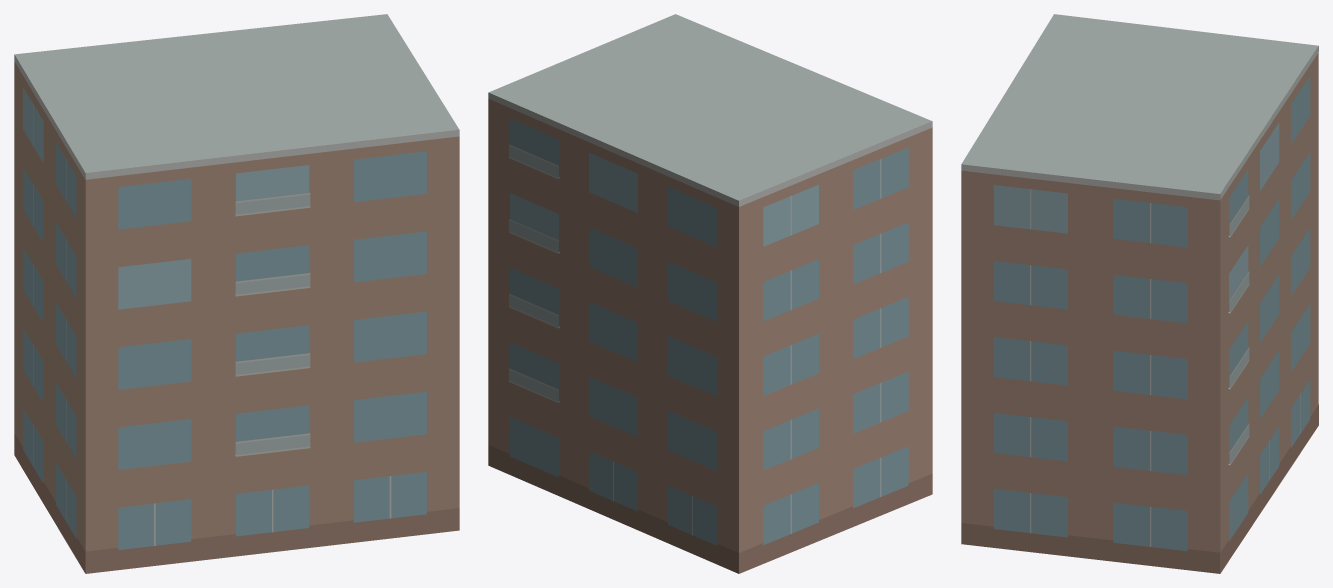
The model's file is survey-upis-32876216.glb.
3 views of the same model, side by side, from view 1: azimuth 30°, elevation 25°; view 2: azimuth 150°, elevation 25°; view 3: azimuth 270°, elevation 25° (orthographic). The views are drawn at different scales.
Parts seen in each view (by area): view 1: survey-upis-32876216.tmp; view 2: survey-upis-32876216.tmp; view 3: survey-upis-32876216.tmp.
Part boxes in pixels (x1,y1,x2,y2): survey-upis-32876216.tmp: (14,14,459,573); survey-upis-32876216.tmp: (488,14,932,573); survey-upis-32876216.tmp: (961,14,1318,573).
Bounding box in the file's own units: 14.91 × 14.65 × 12.51.
